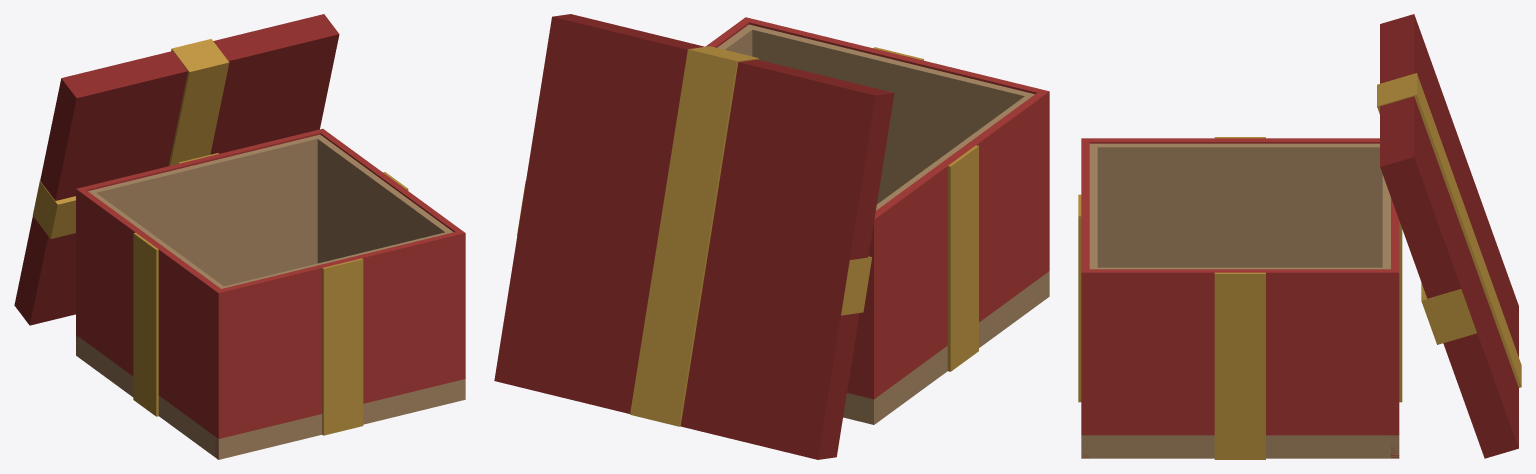
The model's file is gift-box-open.glb.
The picture shows the model from 3 angles, left to right: view 1: azimuth 30°, elevation 25°; view 2: azimuth 150°, elevation 25°; view 3: azimuth 270°, elevation 25°; orthographic projection. The views are drawn at different scales.
Visible parts, largest first — view 1: gift-box-open; view 2: gift-box-open; view 3: gift-box-open.
Part boxes in pixels (left/top/right/bottom): gift-box-open: left=14, top=14, right=465, bottom=459; gift-box-open: left=494, top=14, right=1049, bottom=459; gift-box-open: left=1078, top=14, right=1521, bottom=459.
Size of the model in its own units: 0.662 by 0.6623 by 0.865.
